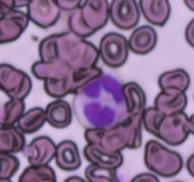N: (74, 69, 126, 129)
